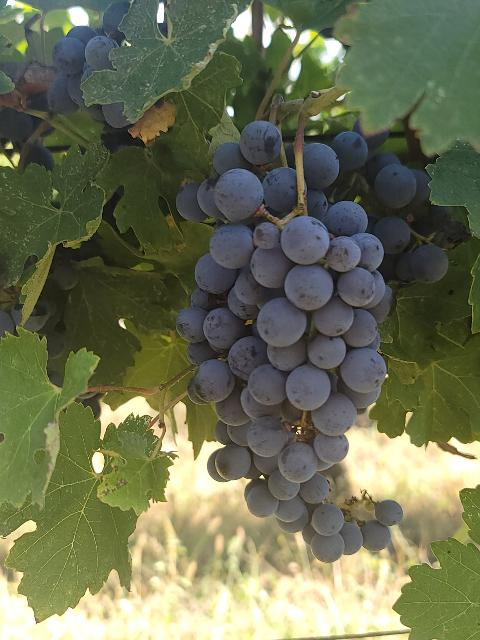grapes: (176, 121, 449, 561)
